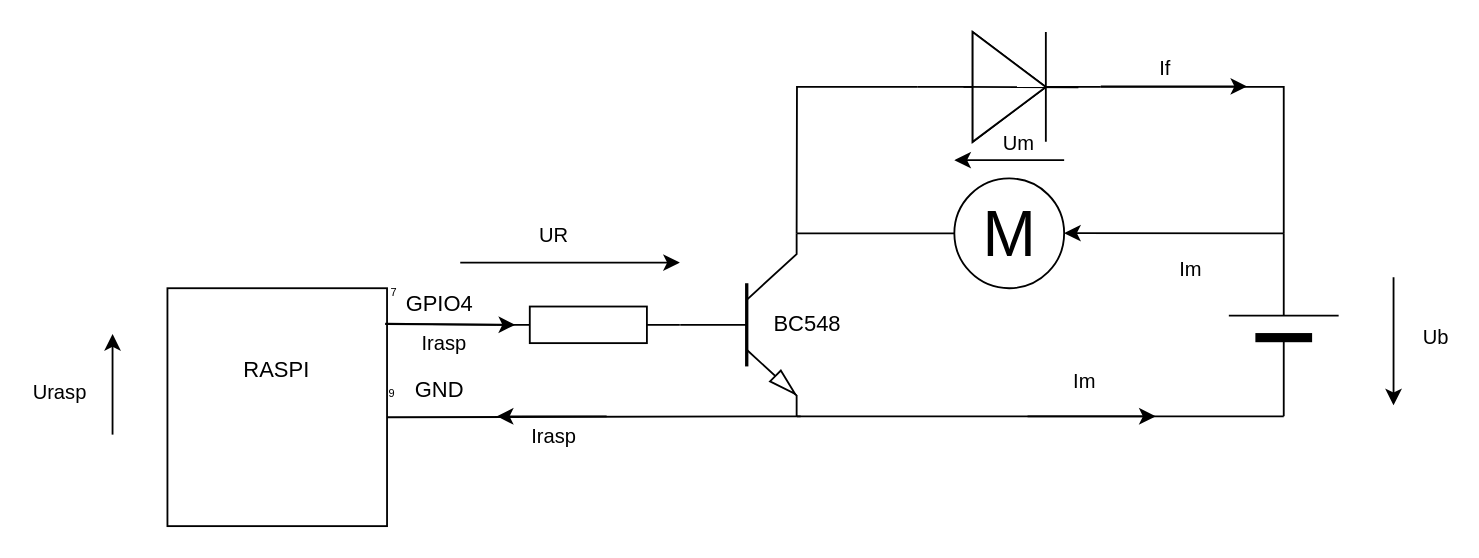
Image size: 1479x558. Some labels were removed from this diagram. Each missing label, with the centre of its shape:
"9V" belongs at (x=1283, y=323).
"R330" belongs at (x=587, y=324).
